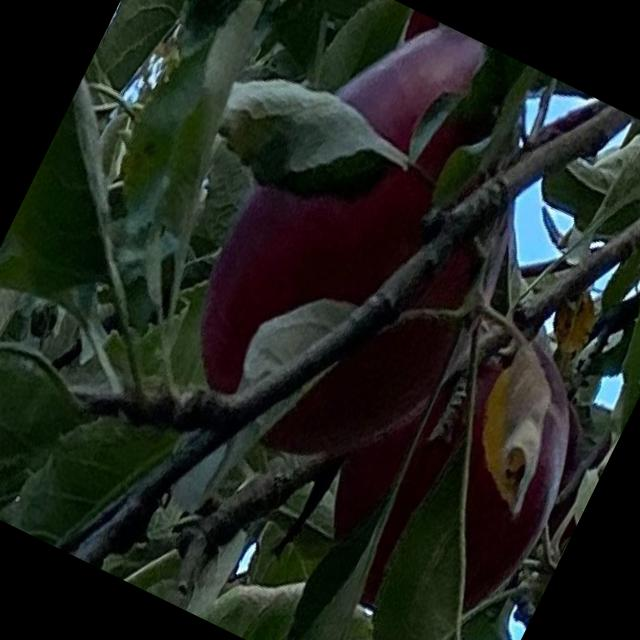Apples: (155, 0, 581, 499), (290, 280, 618, 639)
